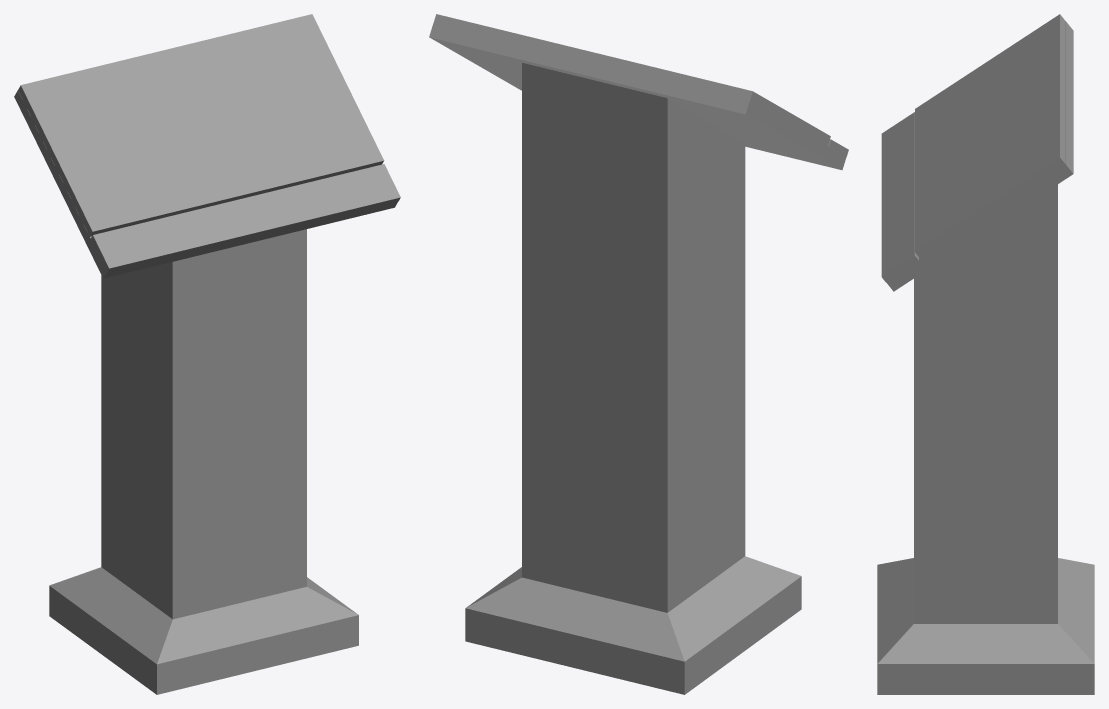
File: tempat amulet.fbx
The picture shows the model from 3 angles, left to right: view 1: azimuth 30°, elevation 25°; view 2: azimuth 150°, elevation 25°; view 3: azimuth 270°, elevation 25°; orthographic projection. The views are drawn at different scales.
Visible parts, largest first — view 1: Cube, Cube.005, Cube.004, Cube.001; view 2: Cube, Cube.001, Cube.005; view 3: Cube, Cube.005, Cube.004, Cube.001.
Part boxes in pixels (x1,y1,x2,y2): Cube: [49, 229, 358, 694]; Cube.005: [18, 14, 384, 236]; Cube.004: [91, 164, 400, 272]; Cube.001: [14, 90, 398, 278]; Cube: [465, 63, 801, 694]; Cube.001: [429, 24, 846, 170]; Cube.005: [433, 14, 830, 146]; Cube: [877, 184, 1094, 694]; Cube.005: [915, 14, 1065, 258]; Cube.004: [881, 112, 918, 282]; Cube.001: [886, 21, 1073, 291].
Size of the model in its own units: 273 by 496 by 175.
